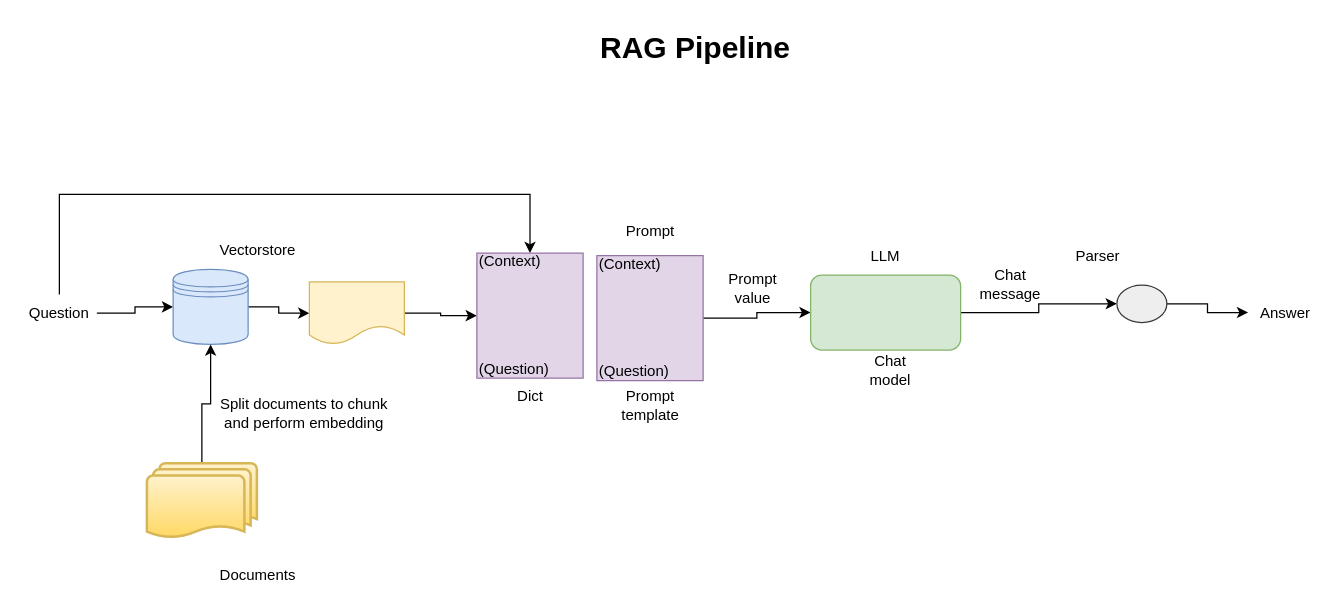
Some shapes in this 1344 by 615 pixel diagram are drawn without their labels. Each missing label, with the centre of its shape:
"Context Window" goes at point (885, 312).
"Relevant Document" goes at point (356, 312).
